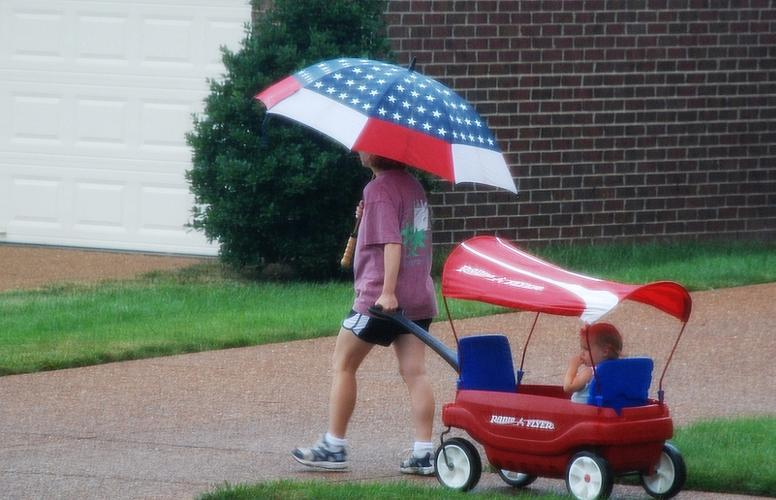person: (293, 150, 439, 477)
